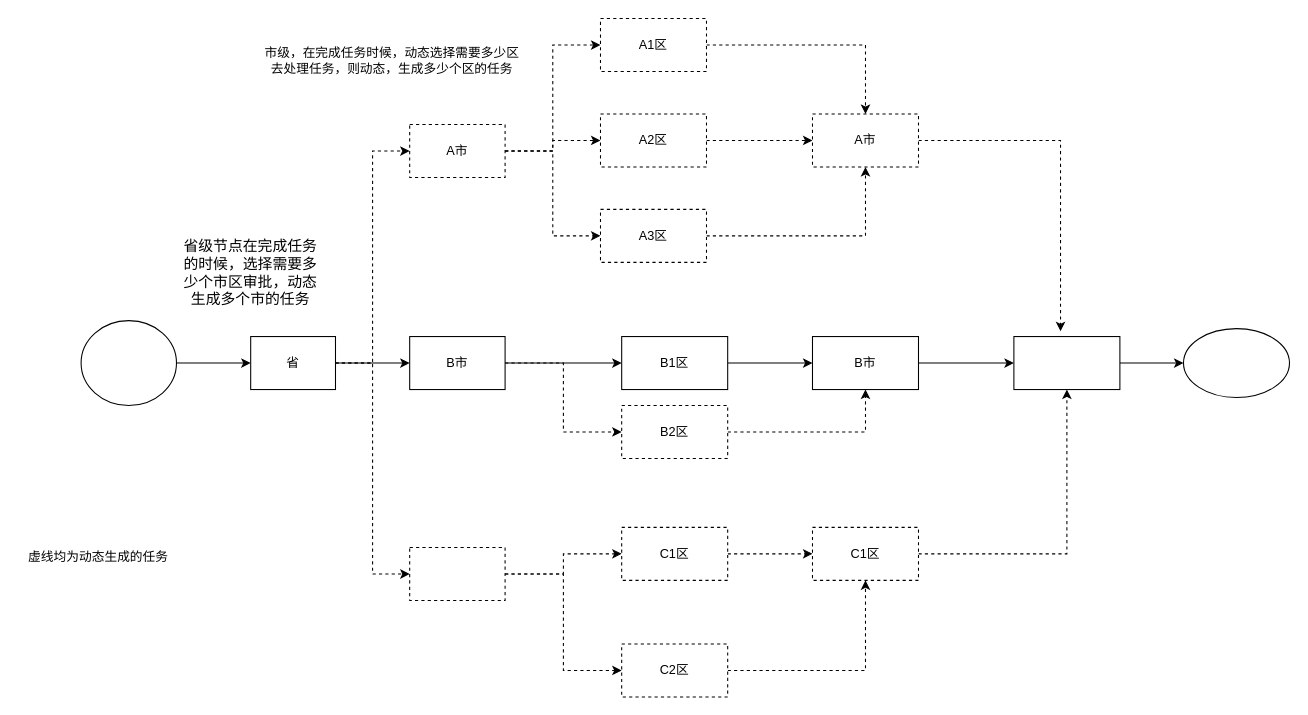
This 1308x715 diagram has some shape labels left out. The shapes that lost their labels are listed below. From the top down, each one's centre as x and y in pixels, then its label:
At pixel 1066 362: "全部处理完 则进行下一步".
At pixel 457 573: "C市".
